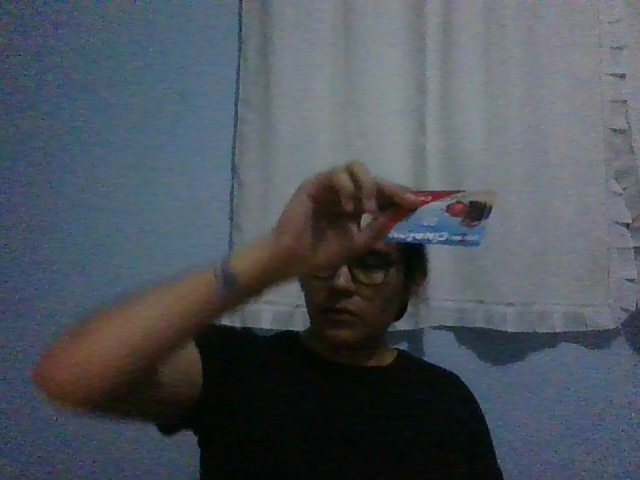tarjeta: (382, 189, 499, 247)
